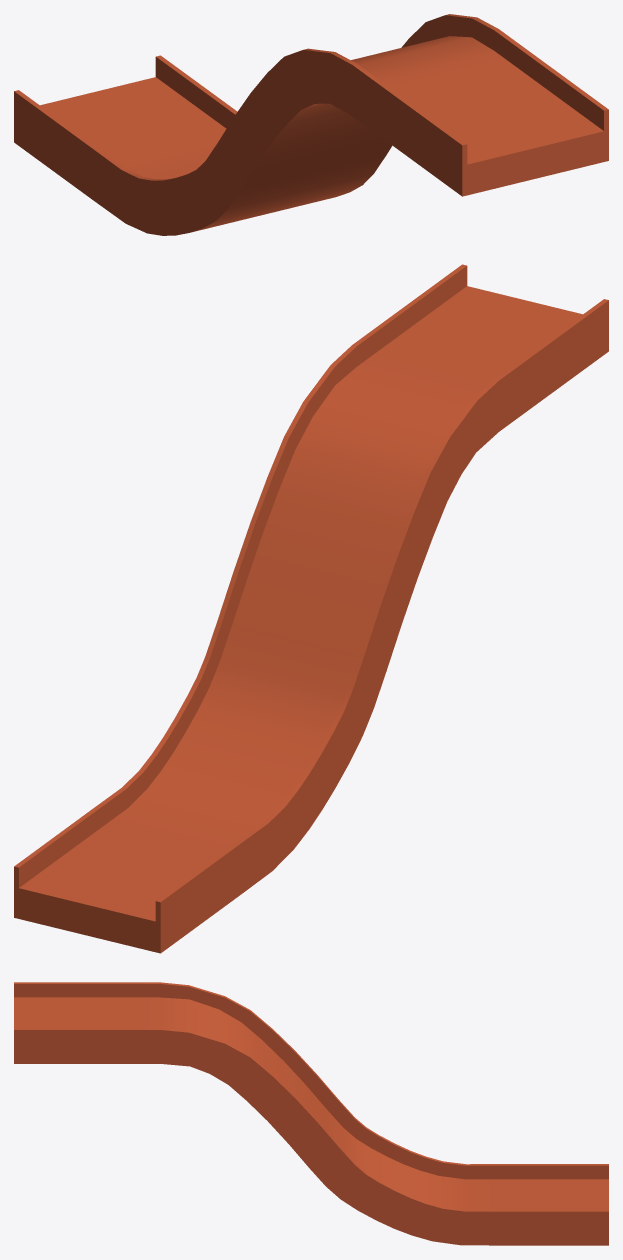
The model's file is Car_Track_Down01.fbx.
3 views of the same model, one above another, from view 1: azimuth 30°, elevation 25°; view 2: azimuth 150°, elevation 25°; view 3: azimuth 270°, elevation 25° (orthographic). The views are drawn at different scales.
Parts seen in each view (by area): view 1: Car_Track_Down:pCube1; view 2: Car_Track_Down:pCube1; view 3: Car_Track_Down:pCube1.
Part boxes in pixels (x1,y1,x2,y2): Car_Track_Down:pCube1: (14,14,608,235); Car_Track_Down:pCube1: (14,264,608,953); Car_Track_Down:pCube1: (14,982,608,1245).
Size of the model in its own units: 1 by 2.12 by 5.29.
